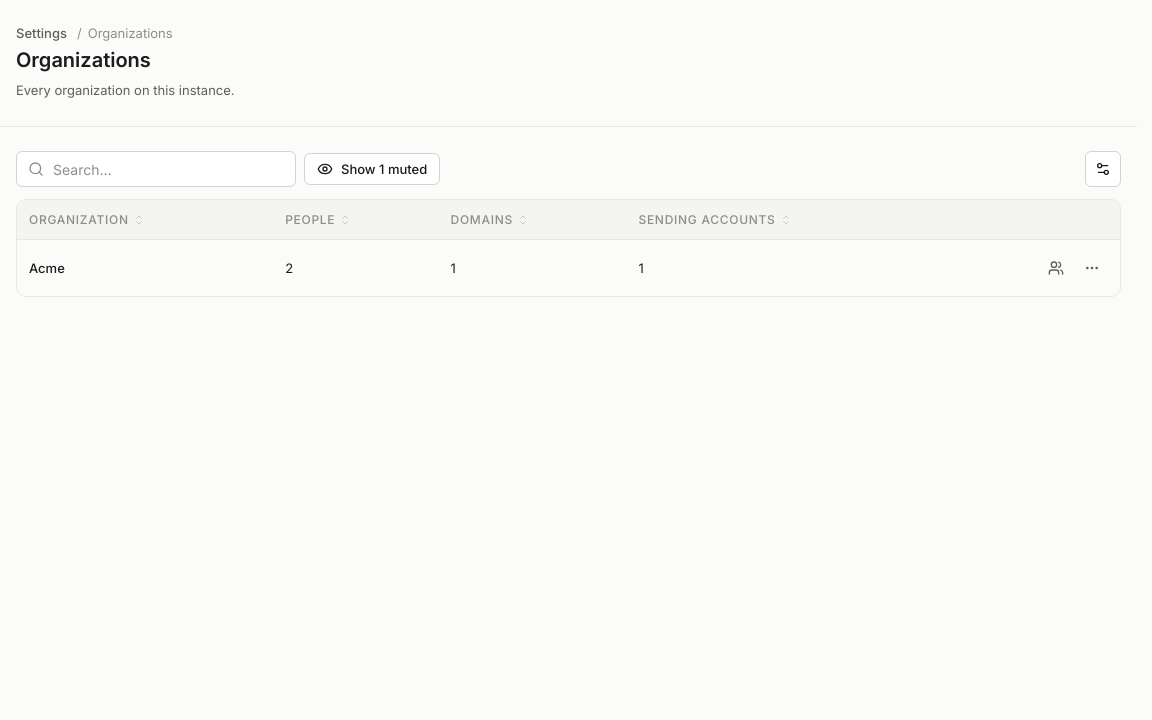
Scenario: InstanceOrganizations › shows infrastructure detail without exposing organization messages
Check: the text "Acme" is shown, box [29,259,65,277]
Click the button named "View details" at {"x": 1056, "y": 268}, box [1040,252,1072,284]
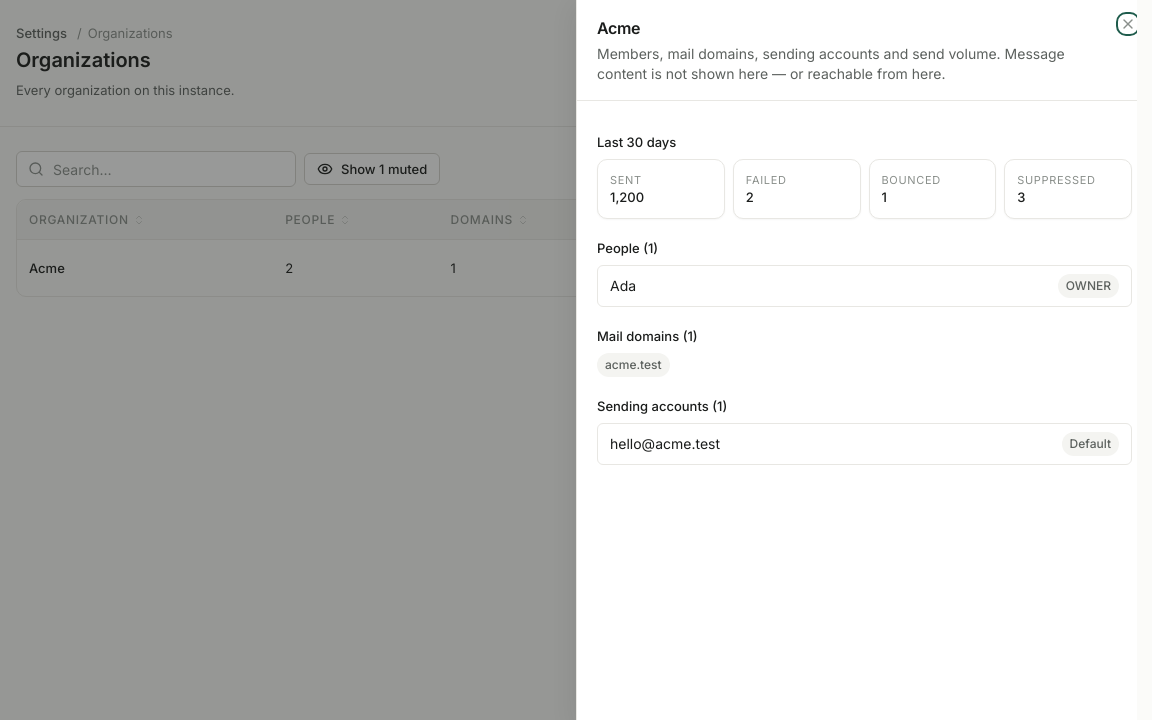
Check: the text "Ada" is shown, box [610,276,636,296]
Check: the text "acme.test" is shown, box [597,353,670,377]
Check: the text "hello@acme.test" is shown, box [610,434,720,454]
